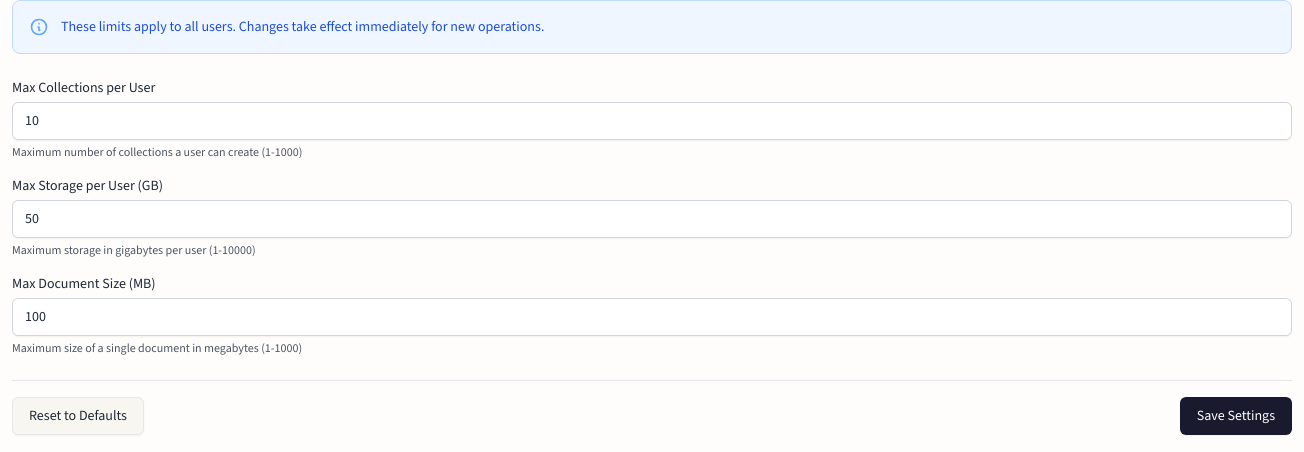
Test: ResourceLimitsSettings › form interactions › updates max storage input
The width and height of the screenshot is (1304, 452).
Click the number field below "Max Storage per User (GB)" at (652, 219), box [12,200,1292,238]
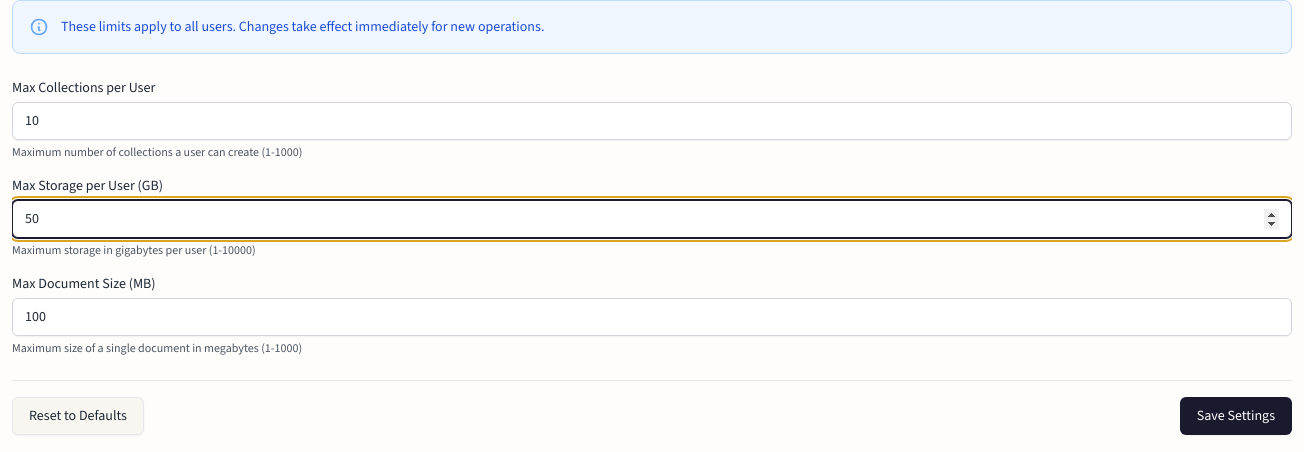
Type keys "100"
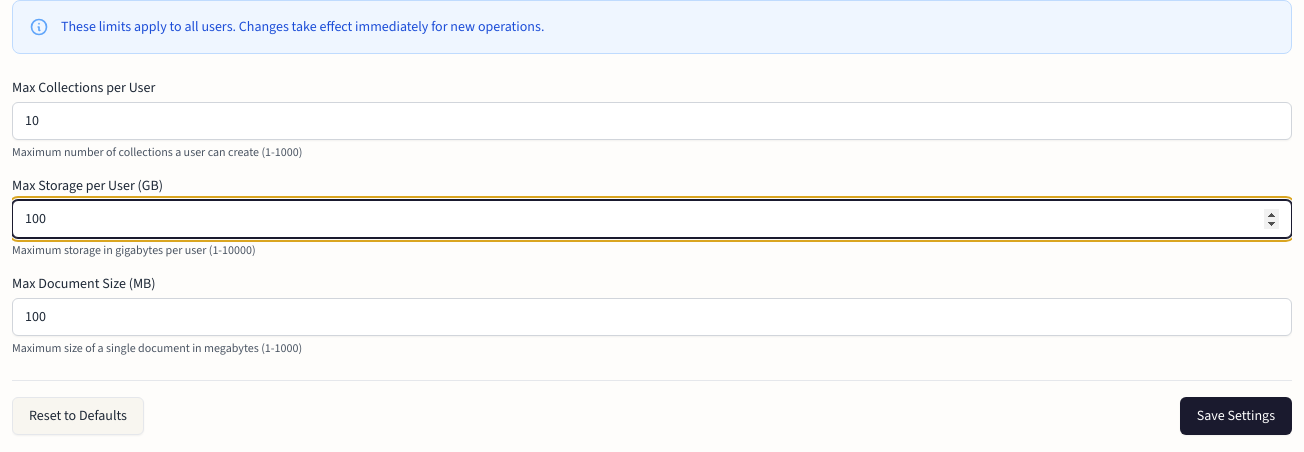
Check: the number field below "Max Storage per User (GB)" holds "100", box [12,200,1292,238]
